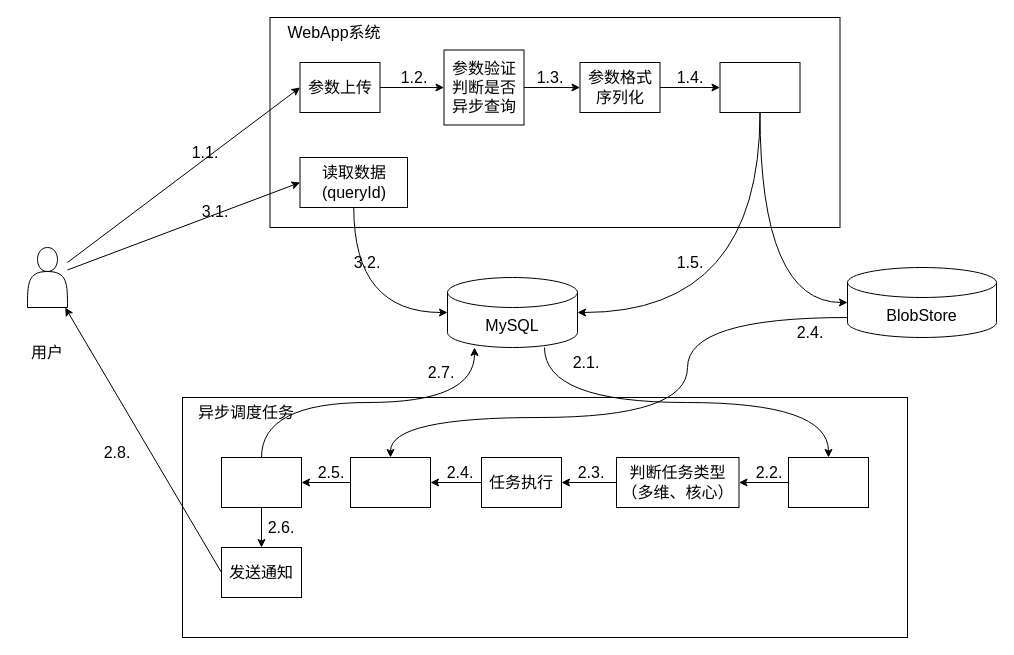
This 1014x655 diagram has some shape labels left out. Here are the shapes that lost their labels. From the top down, the centre of each, then its label:
point 759,87: 请求落库
point 261,482: 结果存储
point 390,482: 引擎查询
point 828,482: 读取MSQL
